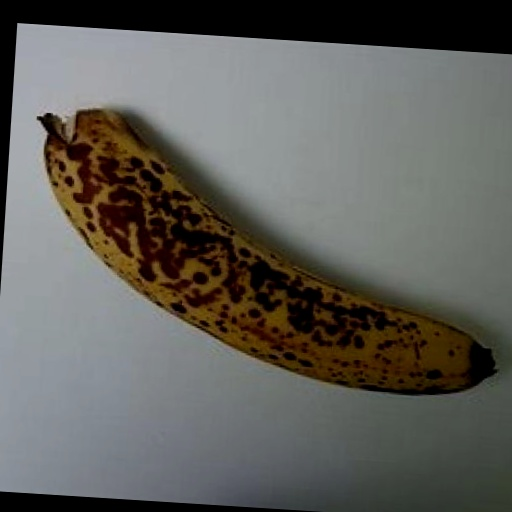fruit: (40, 109, 493, 393)
